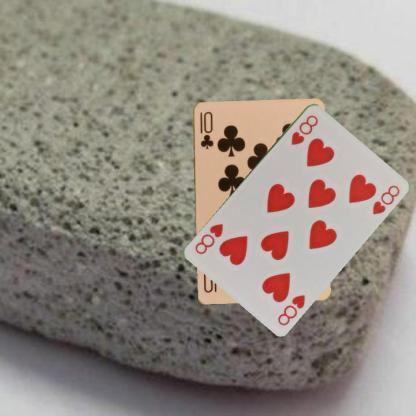10c: (197, 108, 214, 150)
8h: (288, 112, 320, 146), (275, 292, 307, 326)
